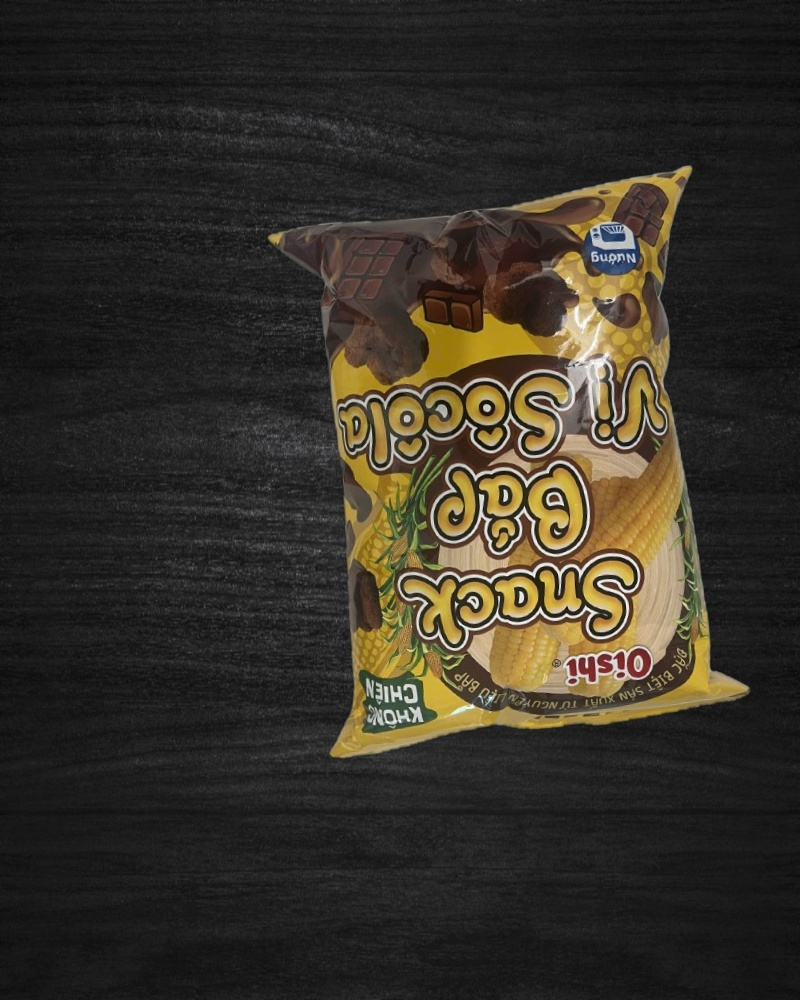Snack socola: (267, 167, 754, 759)
